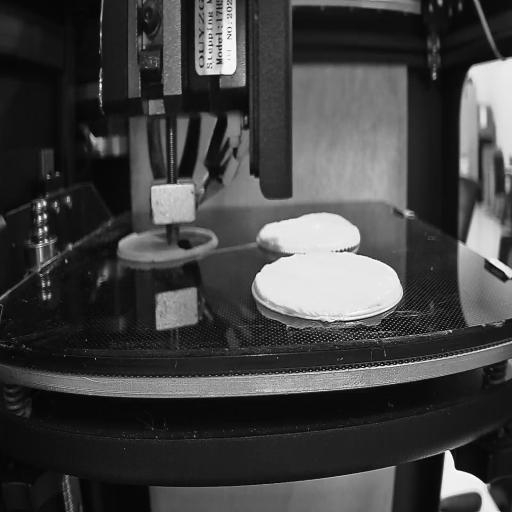over_extrusion: (250, 270, 272, 302)
